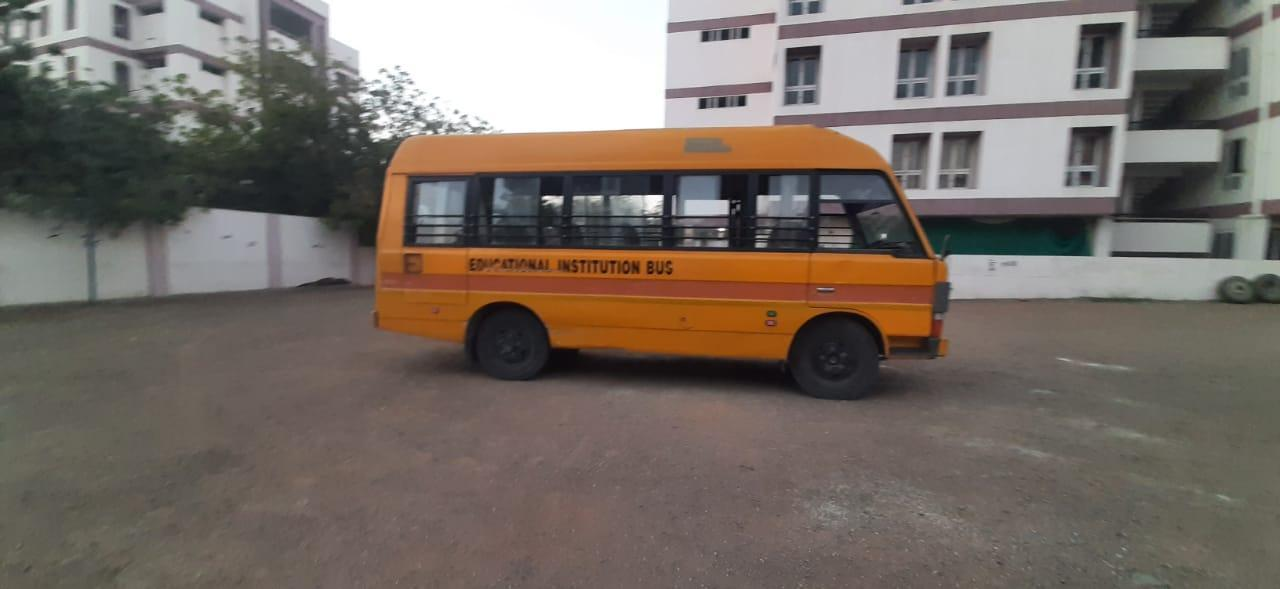Bus: (351, 115, 971, 412)
